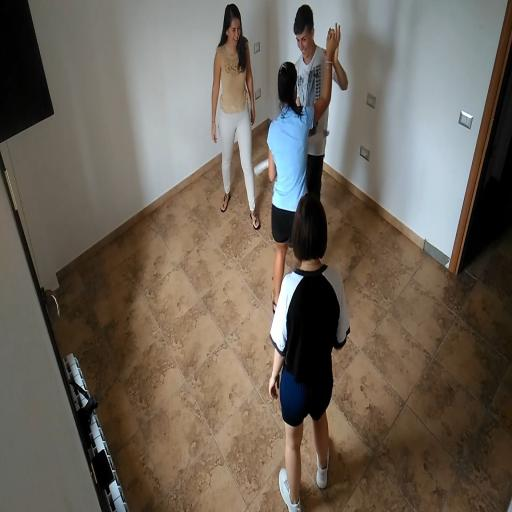violencia: (252, 4, 354, 317)
